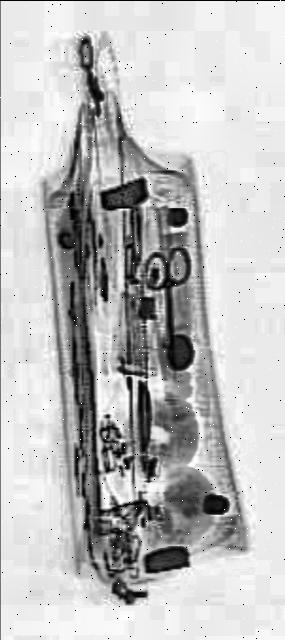Scissors: (148, 240, 198, 368)
